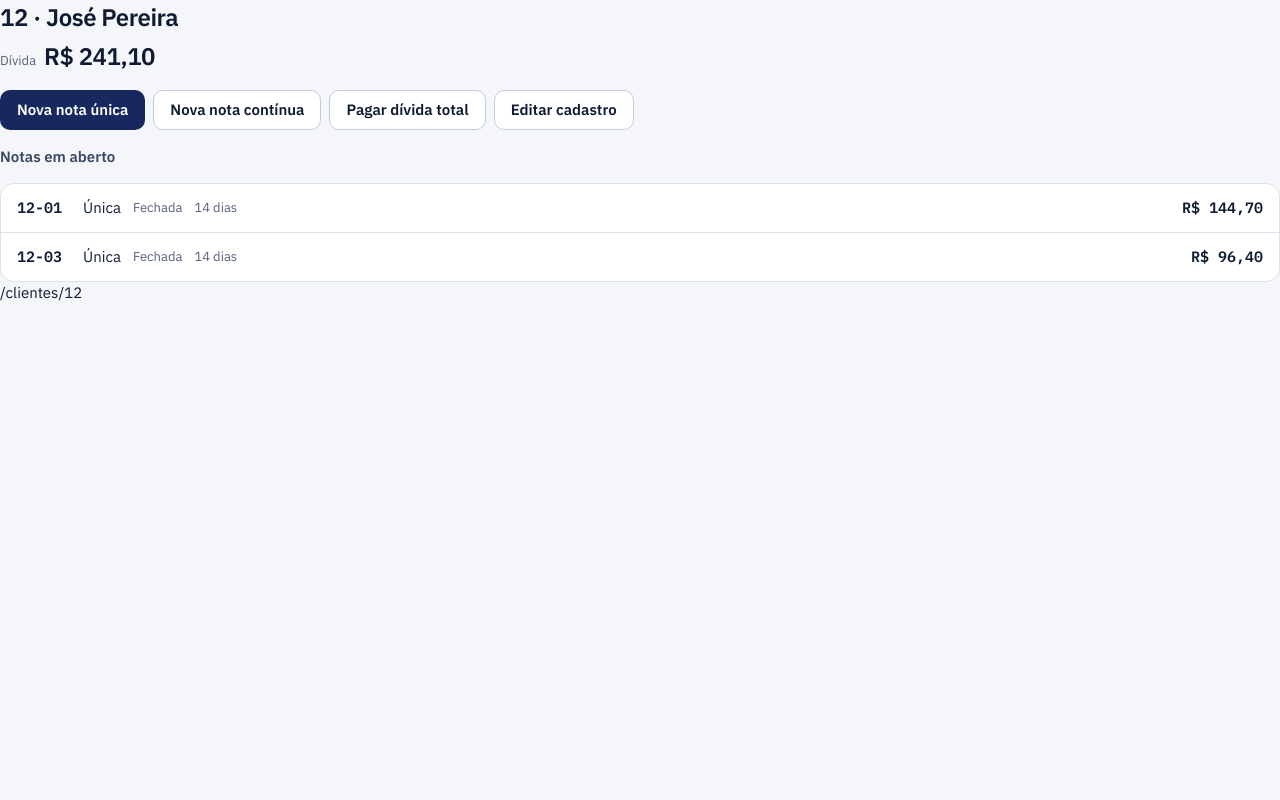
Test: PagarDivida › abre com o valor igual à dívida e a distribuição que o servidor devolve
The width and height of the screenshot is (1280, 800).
Step 1. Click the button "Pagar dívida total" → click(408, 110), box [330,90,486,130]
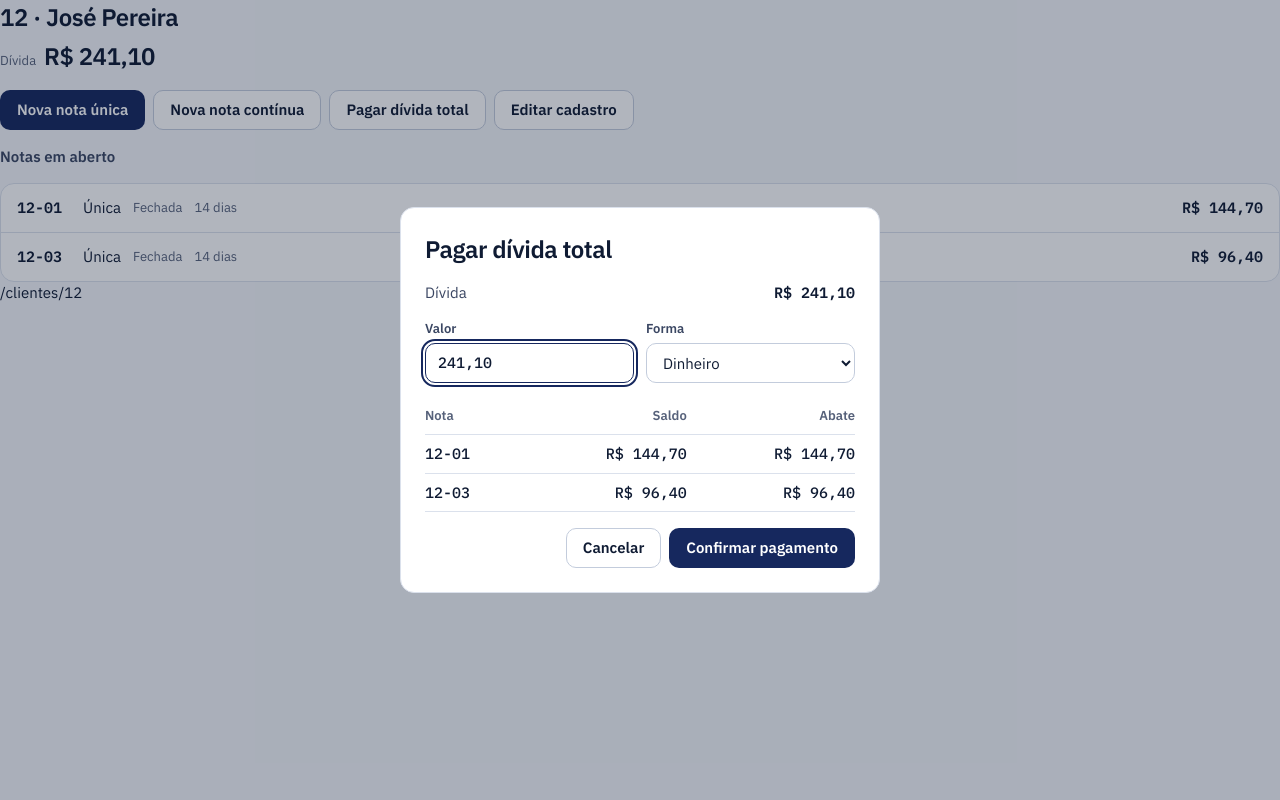
Expected: the dialog "Pagar dívida total" is shown, [400,207,880,593]
Expected: the field labelled "Valor" holds "241,10", [425,343,634,383]
Expected: the dropdown labelled "Forma" shows "Dinheiro", [646,343,855,383]
